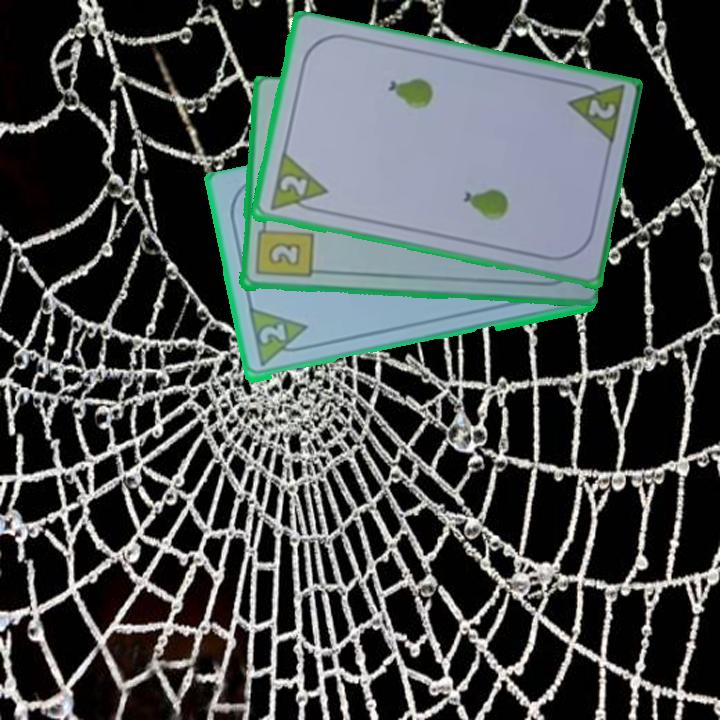2b: (252, 217, 315, 281)
2p: (563, 77, 627, 149), (266, 150, 330, 217), (255, 321, 289, 348)
